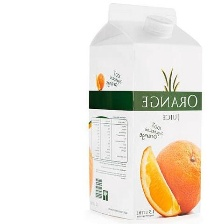carton: (76, 2, 210, 221)
